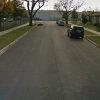Car: (63, 21, 87, 48)
